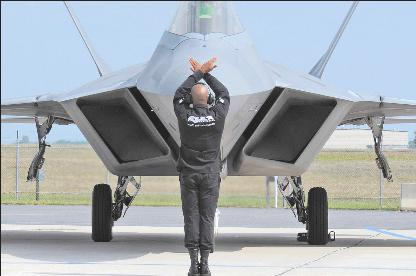F18: (0, 1, 415, 246)
